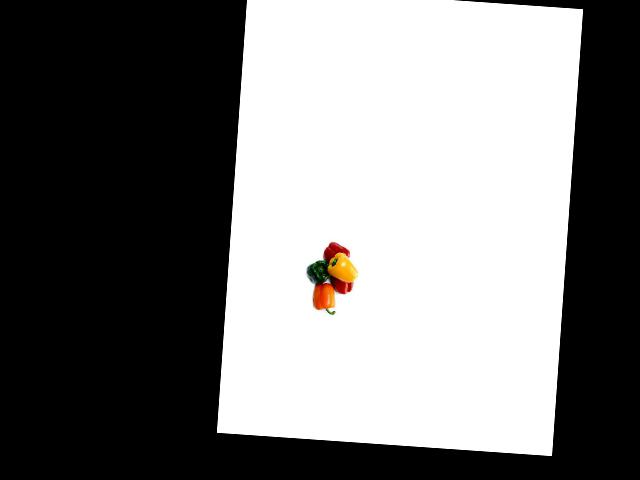bell_pepper: (302, 253, 337, 286)
